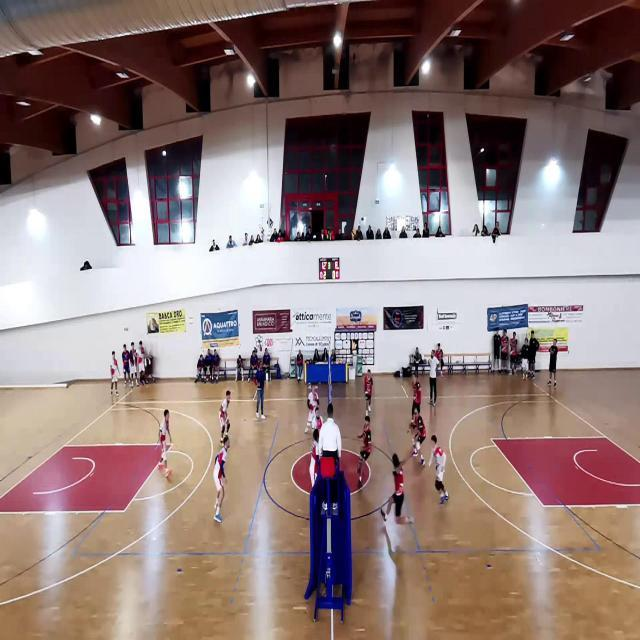volleyball: (346, 362, 352, 369)
